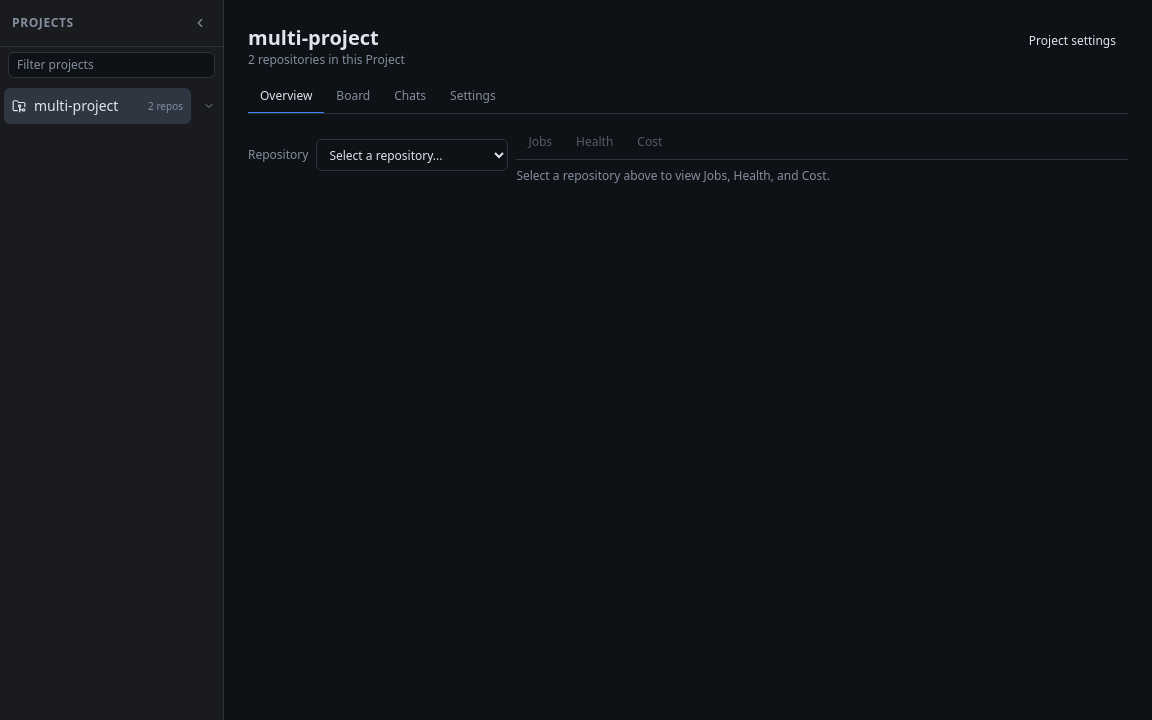
Test case: RepoLayout project sidebar › reveals repository basenames through an accessible disclosure
What coordinates should you click on to do the following:
click the button named "Show repositories in this project"
I would click on:
 (209, 106)
Its box is [199,96,219,116].
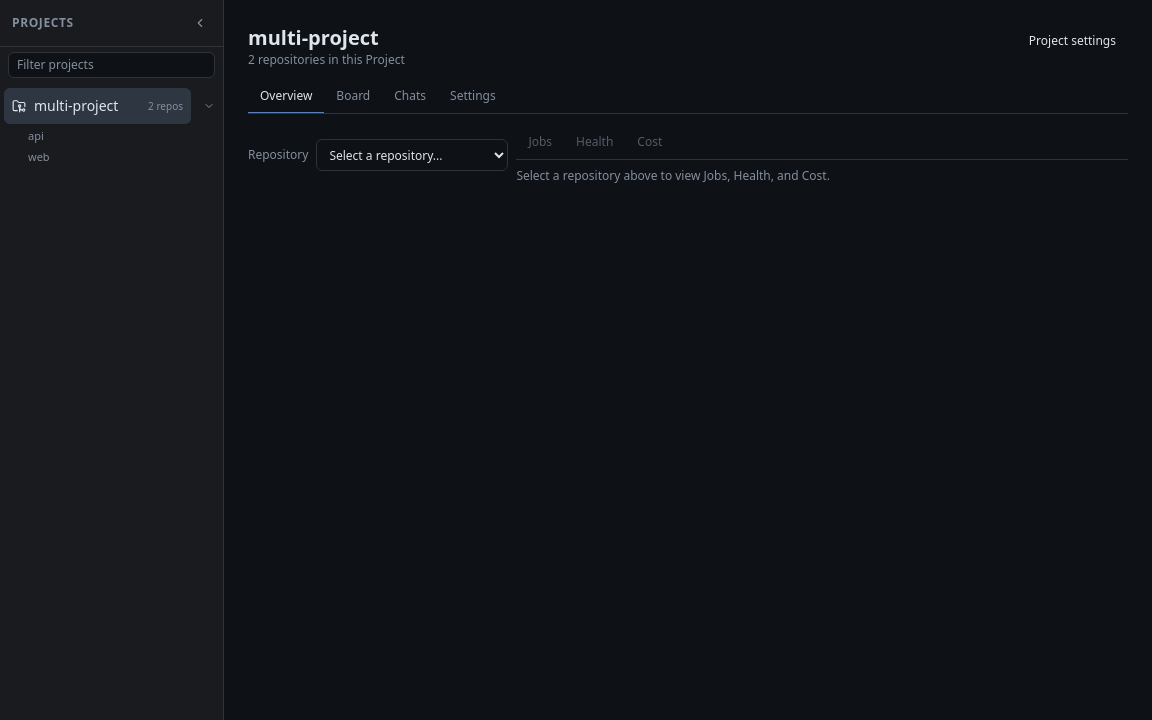
expect the list item "api" is shown: met, box [28,128,44,143]
expect the list item "web" is shown: met, box [28,148,50,164]
